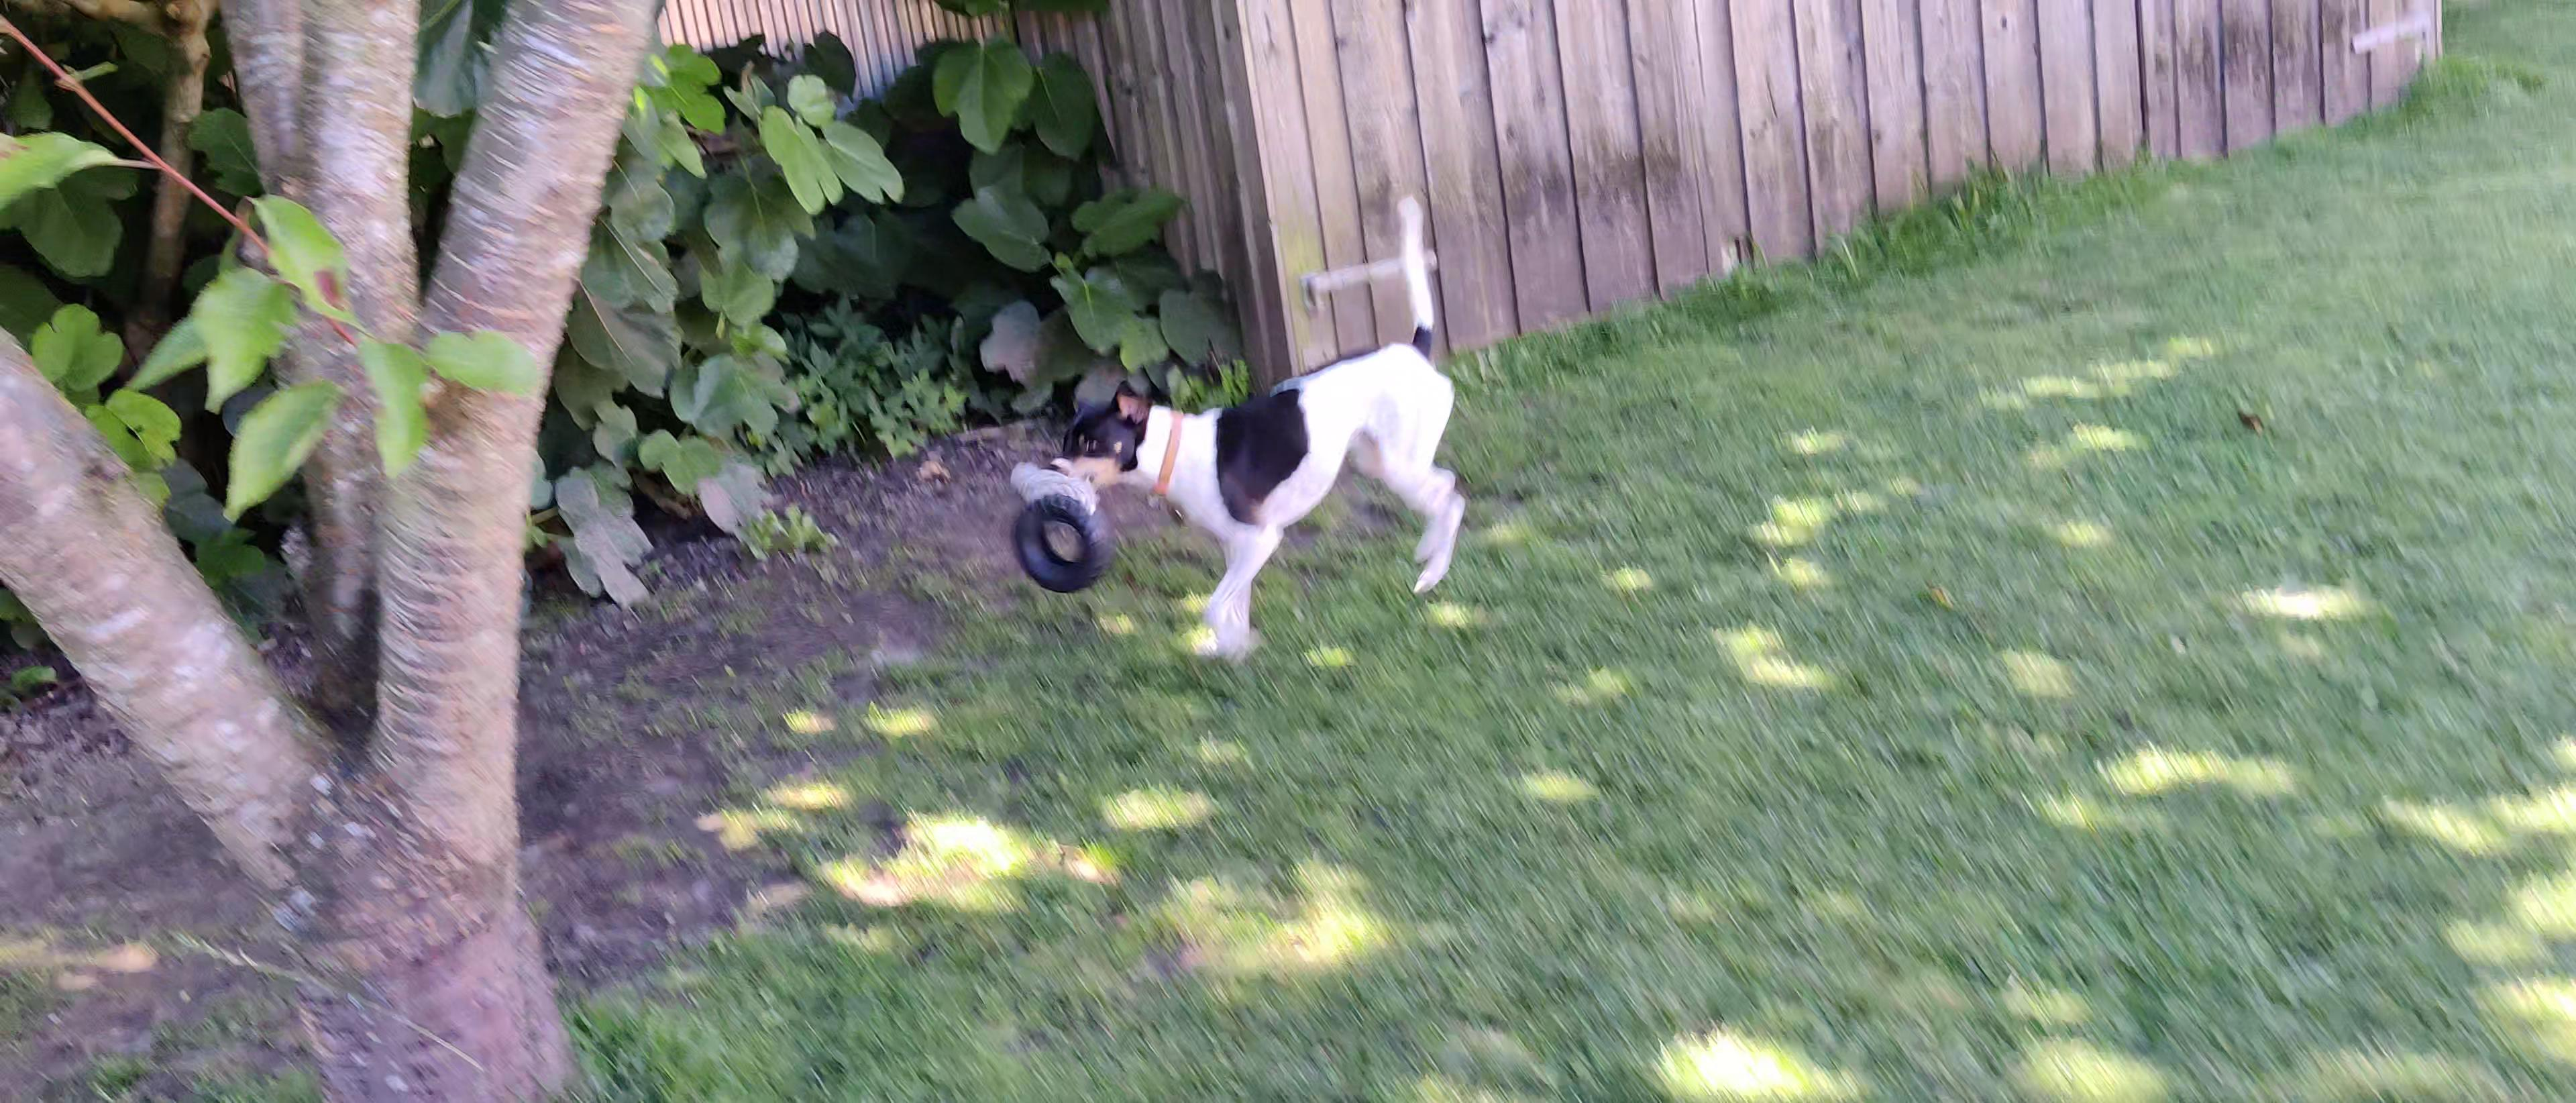Dog: (1037, 189, 1472, 662)
